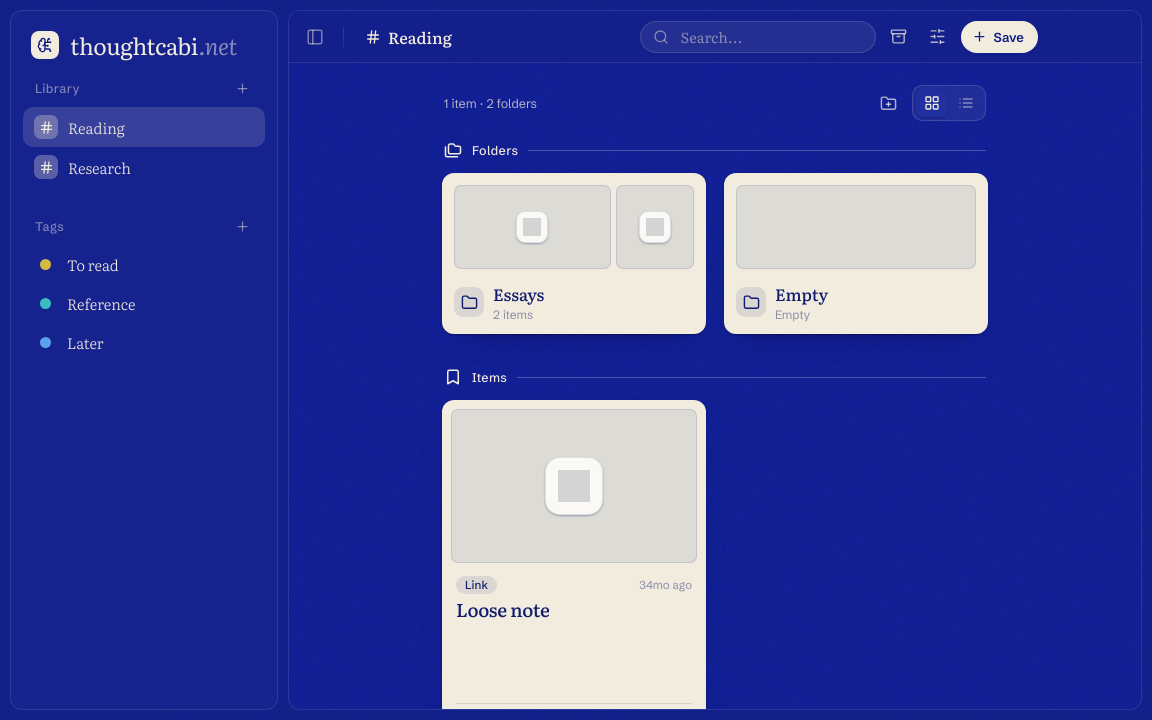
App › names the empty shelf it is standing in
Click the button named "New shelf". click: click(242, 88)
box: [231,77,253,99]
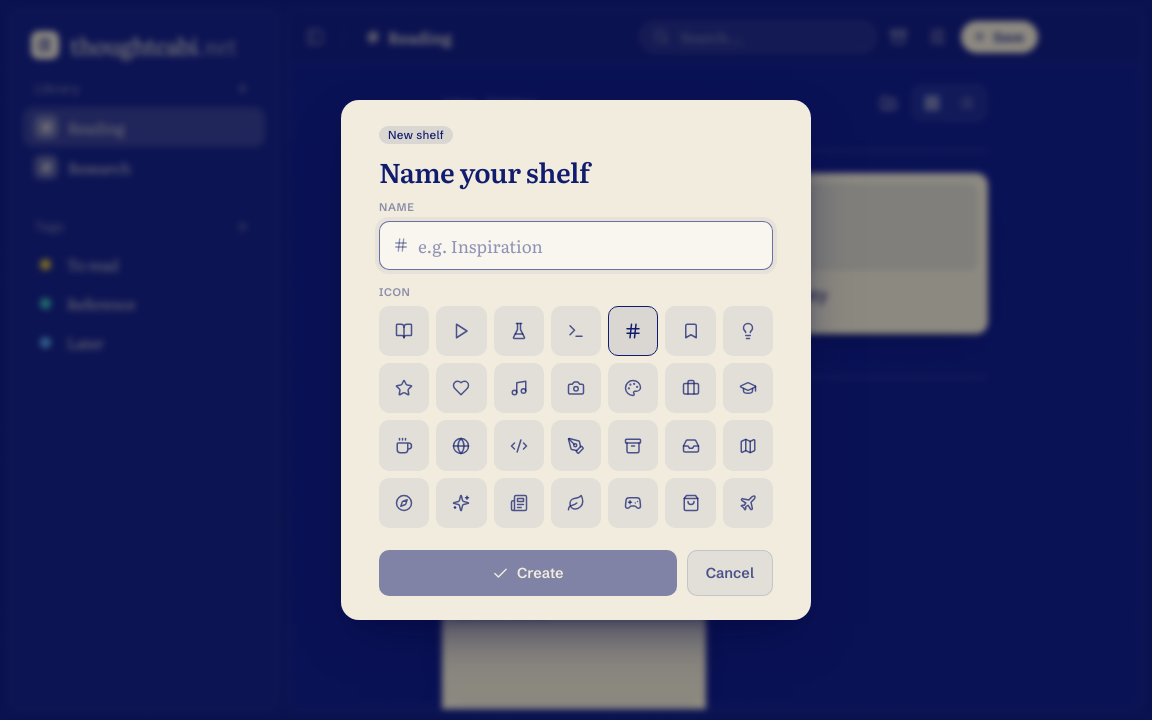
Type "Recipes" into the field with placeholder "e.g. Inspiration". click: (588, 245)
box: [418,222,759,269]
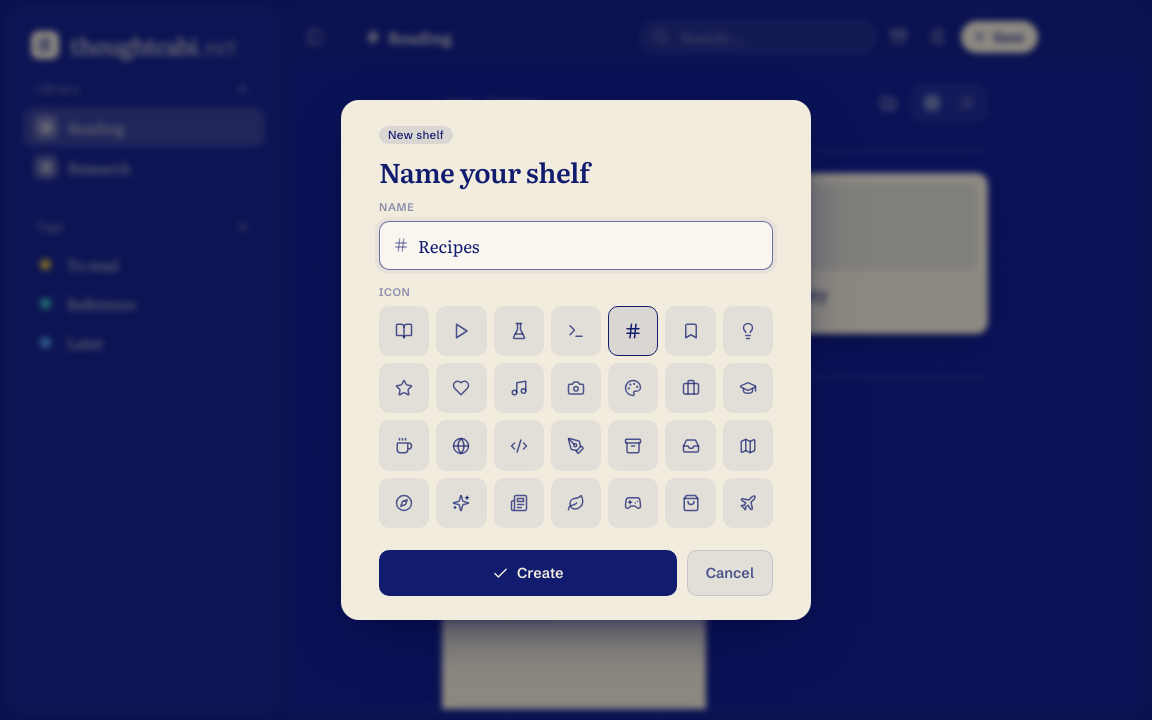
Click the button "Create". click: click(528, 573)
box: [379,550,677,596]
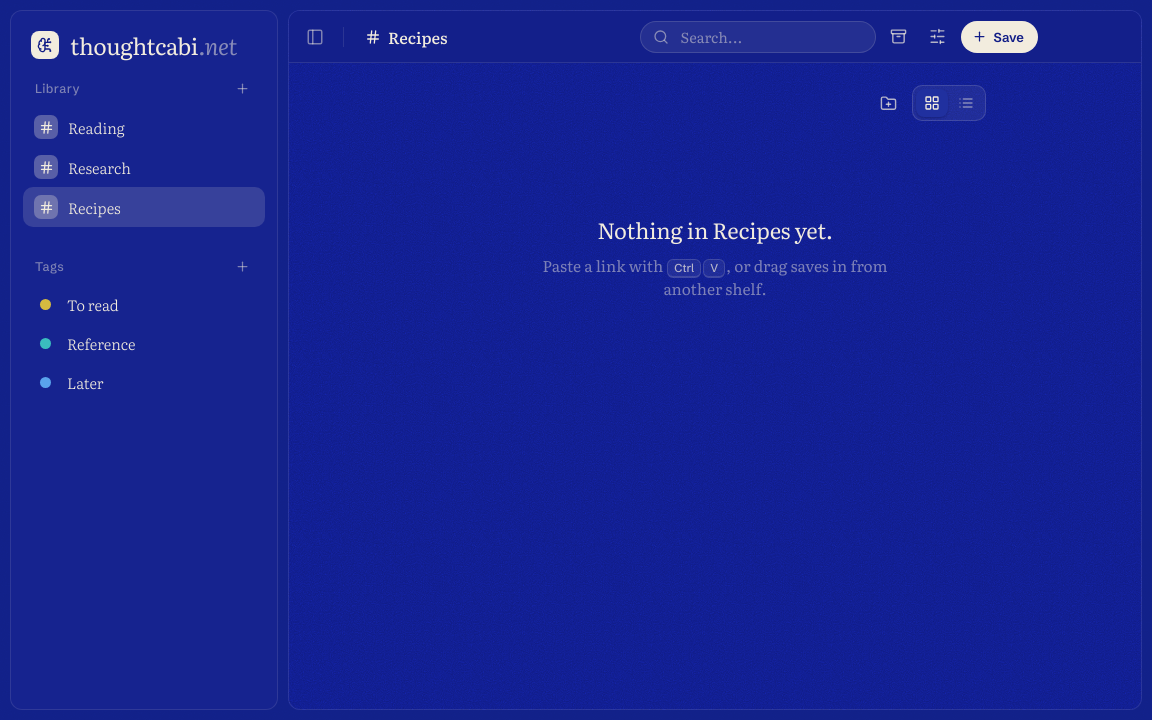
Check: the heading "Nothing in Recipes yet." is shown, box [597,213,833,246]
